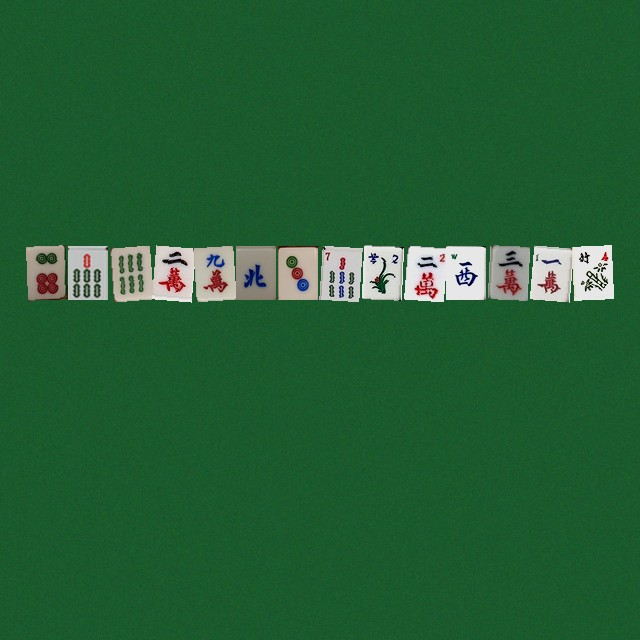tile: (25, 245, 65, 299), (67, 245, 107, 299), (109, 245, 149, 299), (151, 245, 191, 299), (193, 245, 233, 299), (235, 245, 275, 299), (277, 245, 317, 299), (319, 245, 359, 299), (361, 245, 401, 299), (403, 245, 443, 299), (445, 245, 485, 299), (487, 245, 527, 299), (529, 245, 569, 299), (571, 245, 611, 299)
